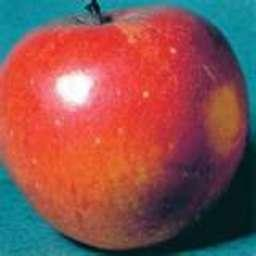apple: (0, 5, 249, 252)
